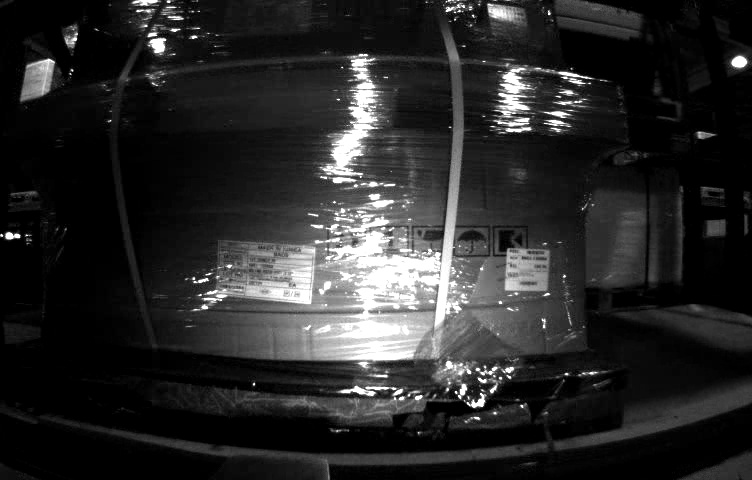True Barcode: (501, 245, 553, 297)
